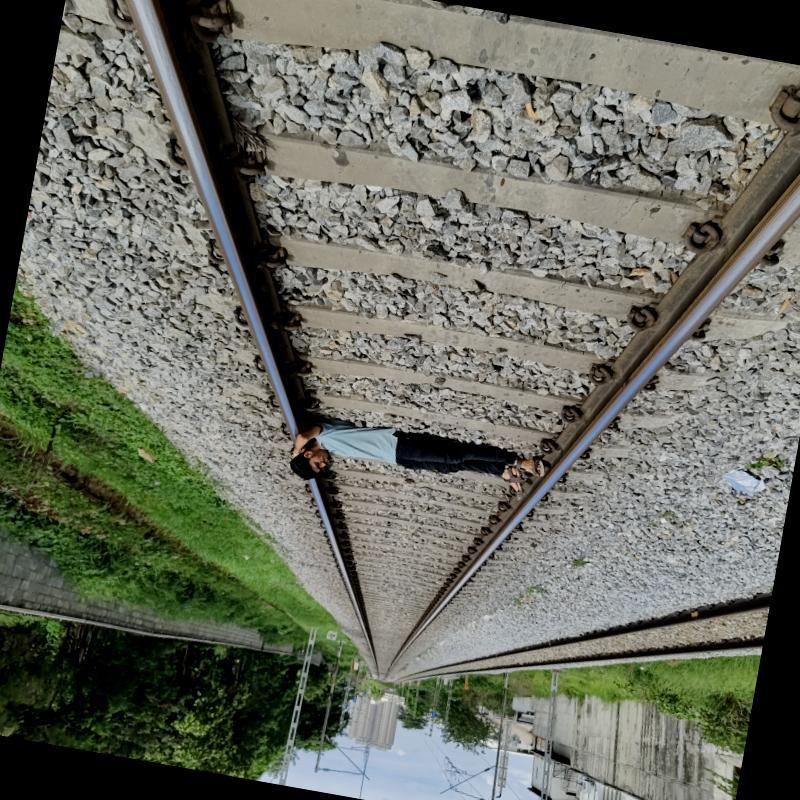sleeping: (274, 403, 571, 506)
